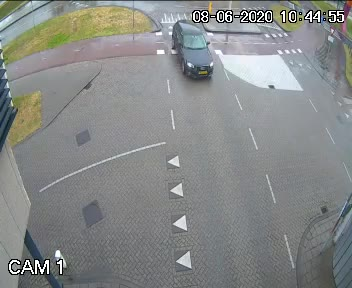car: (161, 14, 227, 104)
